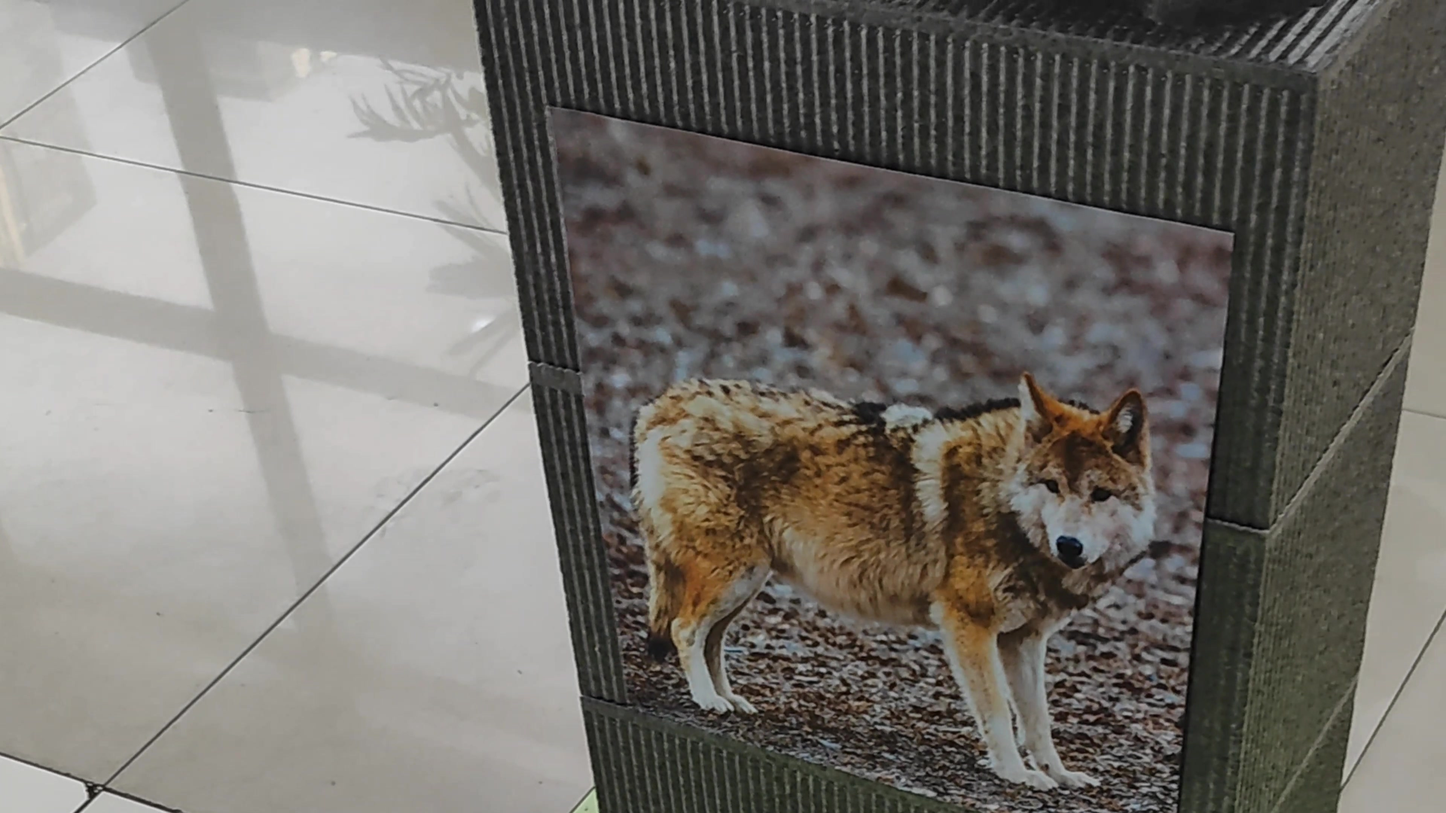wolf: (604, 314, 1169, 796)
